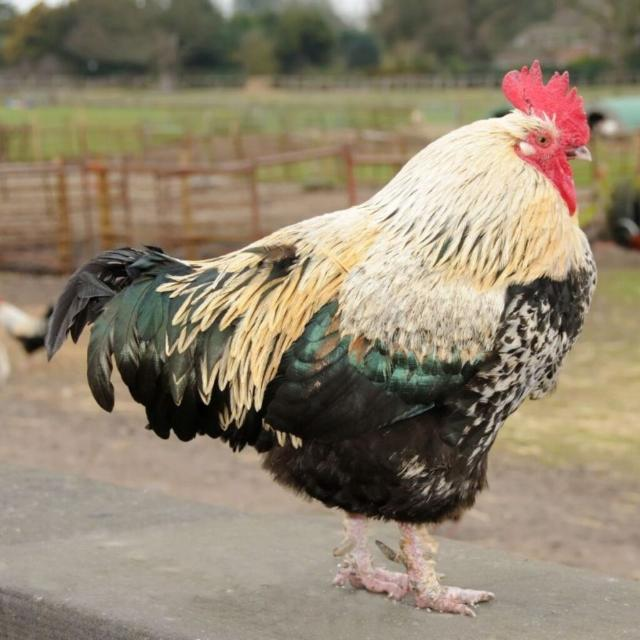Chicken: (40, 56, 599, 620)
